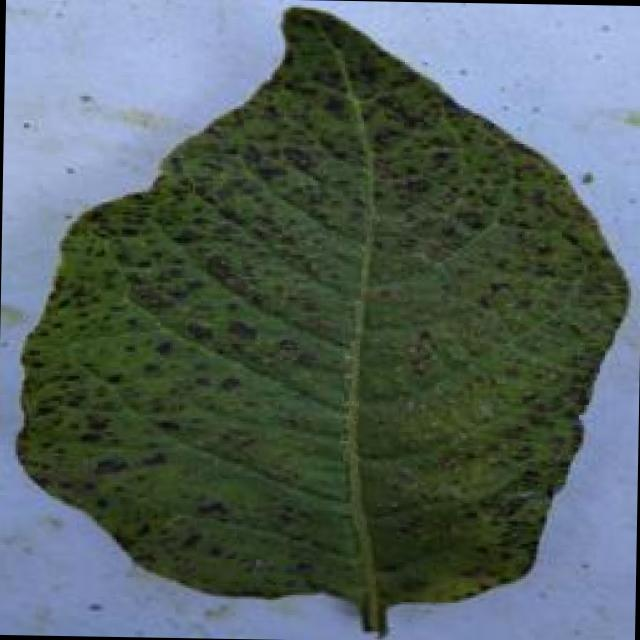Potato_Early_Blight: (0, 0, 638, 638), (391, 3, 640, 110)
